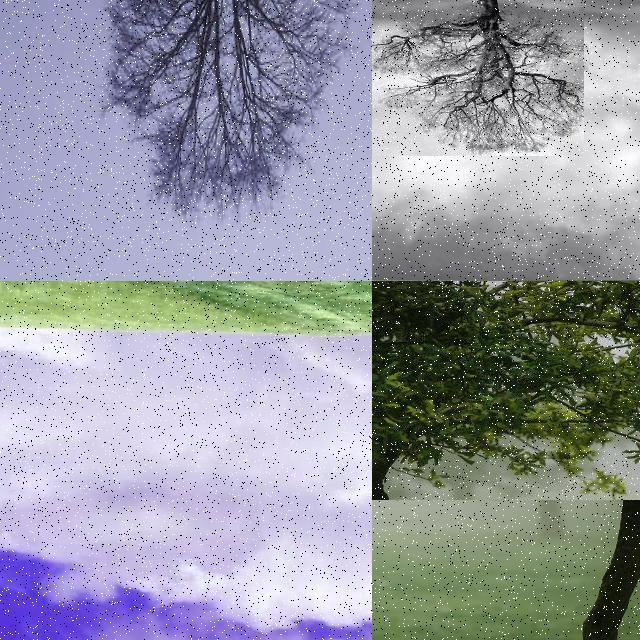tree: (99, 0, 355, 236), (372, 280, 640, 500), (372, 0, 584, 156)
